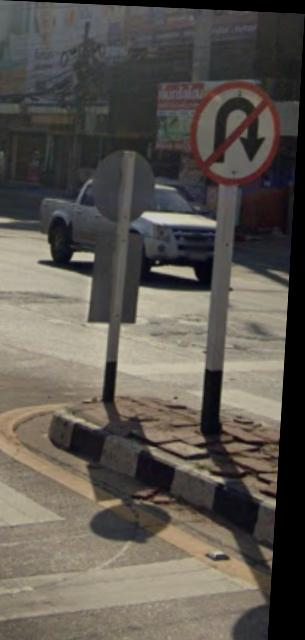not_u_turn_right: (192, 78, 287, 189)
